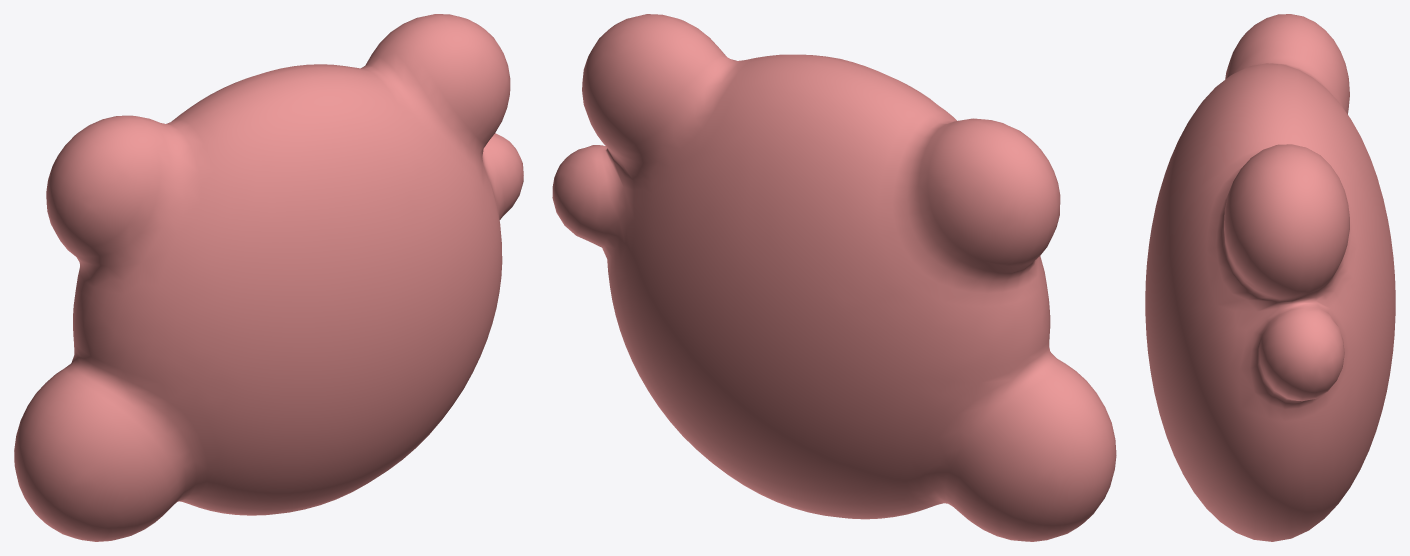
File: bounceawayenemy_lp.fbx
3 renders of one model, left to right at view 1: azimuth 30°, elevation 25°; view 2: azimuth 150°, elevation 25°; view 3: azimuth 270°, elevation 25°, orthographic. The views are drawn at different scales.
Visible parts, largest first — view 1: outerjellyba_low; view 2: outerjellyba_low; view 3: outerjellyba_low.
Part boxes in pixels (bbox=[...]): outerjellyba_low: bbox=[14, 14, 523, 541]; outerjellyba_low: bbox=[552, 14, 1116, 541]; outerjellyba_low: bbox=[1145, 14, 1395, 541].
Size of the model in its own units: 1.58 by 1.29 by 0.6587.
